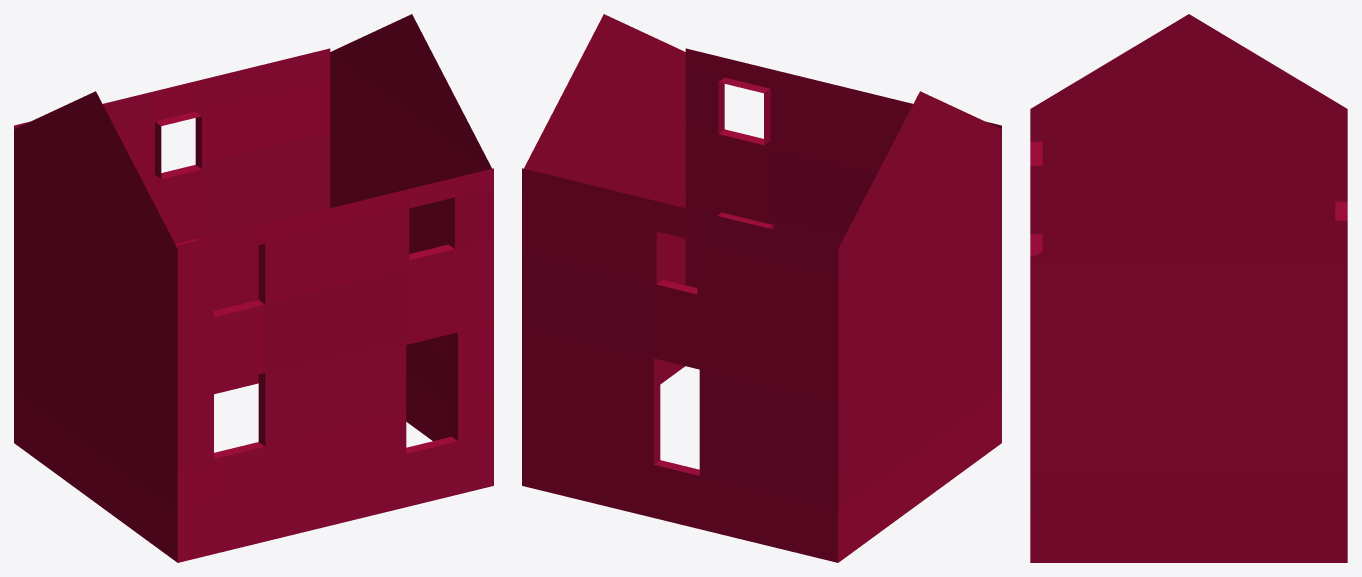
Rendered from SM_Bld_052_Masonry.glb.
3 views of the same model, side by side, from view 1: azimuth 30°, elevation 25°; view 2: azimuth 150°, elevation 25°; view 3: azimuth 270°, elevation 25° (orthographic). The views are drawn at different scales.
Parts seen in each view (by area): view 1: SM_Bld_052_Masonry; view 2: SM_Bld_052_Masonry; view 3: SM_Bld_052_Masonry.
Part boxes in pixels (bbox=[...]): SM_Bld_052_Masonry: bbox=[14, 14, 493, 562]; SM_Bld_052_Masonry: bbox=[522, 14, 1001, 562]; SM_Bld_052_Masonry: bbox=[1030, 14, 1347, 562].
Bounding box in the file's own units: 6.22 × 7.74 × 5.58.
